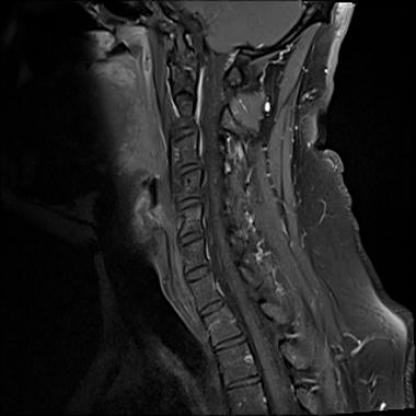Disc Bulgerotation: (184, 265, 214, 283), (178, 159, 202, 174)
